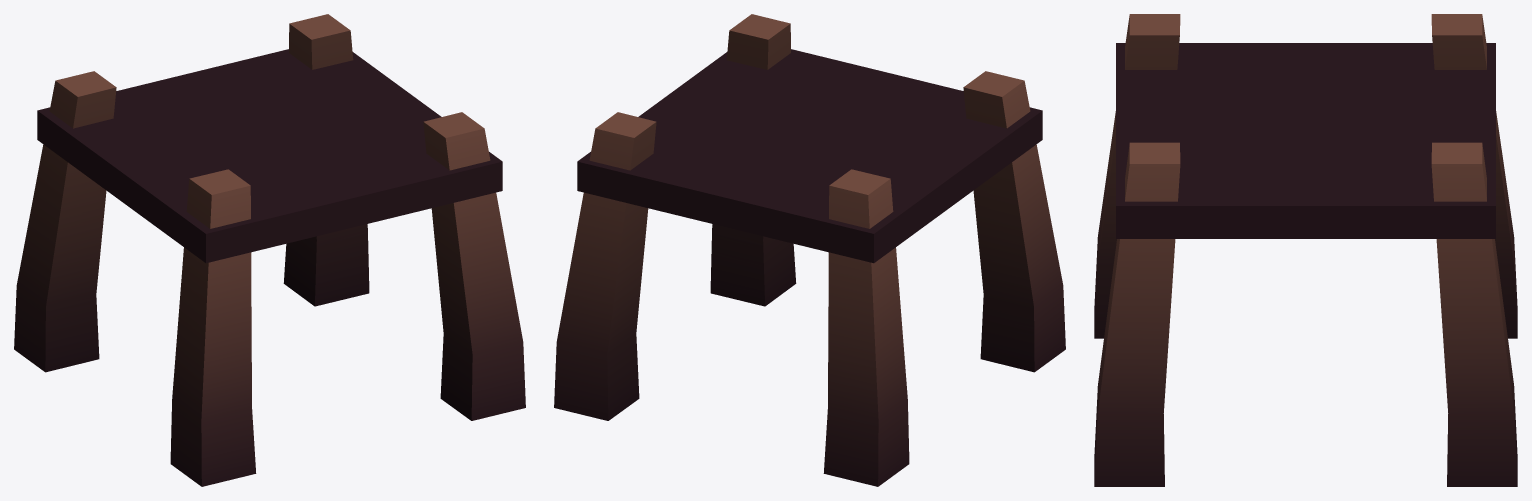
Rendered from Tower0.fbx.
The picture shows the model from 3 angles, left to right: view 1: azimuth 30°, elevation 25°; view 2: azimuth 150°, elevation 25°; view 3: azimuth 270°, elevation 25°; orthographic projection. The views are drawn at different scales.
Parts seen in each view (by area): view 1: Tower0; view 2: Tower0; view 3: Tower0.
Part boxes in pixels (left/top/right/bottom): Tower0: left=14, top=14, right=525, bottom=486; Tower0: left=554, top=14, right=1065, bottom=486; Tower0: left=1094, top=14, right=1517, bottom=486.
Bounding box in the file's own units: 199 × 161 × 200.
